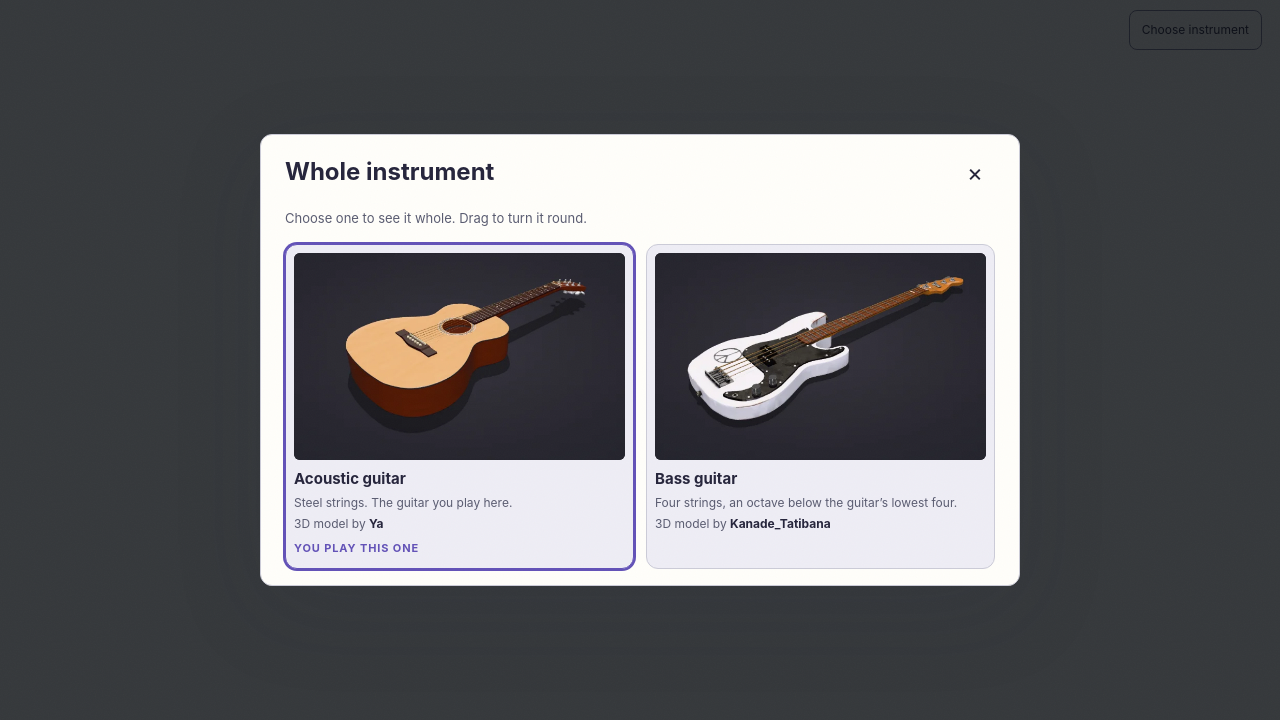
Scenario: an instrument the stage plays in the whole-instrument view › is handed to the stage, which puts it on its own rig: no viewer
Click the button with class "model-card" that starts with "Bass guitar".
click(820, 407)  # box [646,244,995,569]
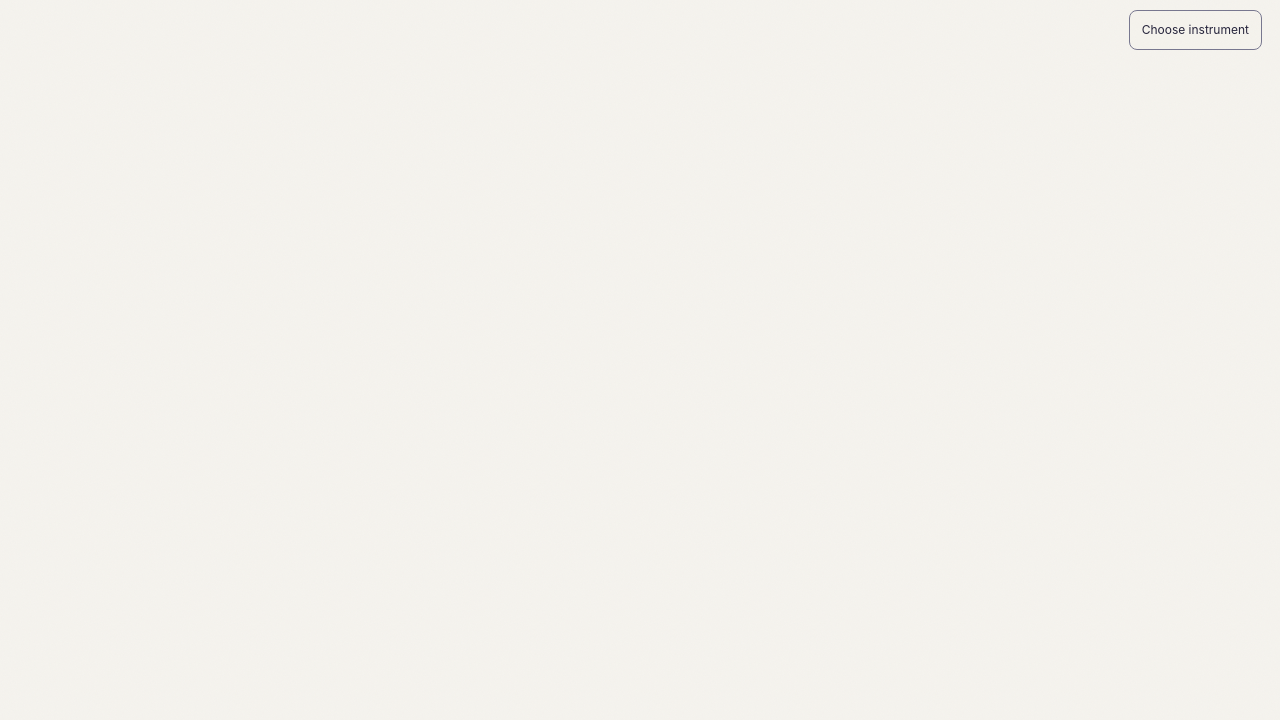
expect the dialog is gone: met
